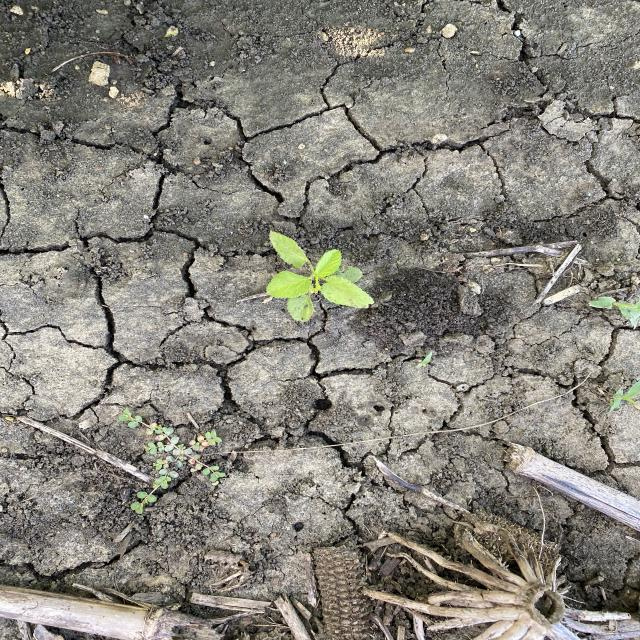PricklySida: (264, 228, 380, 326)
SpottedSpurge: (109, 403, 233, 515)
